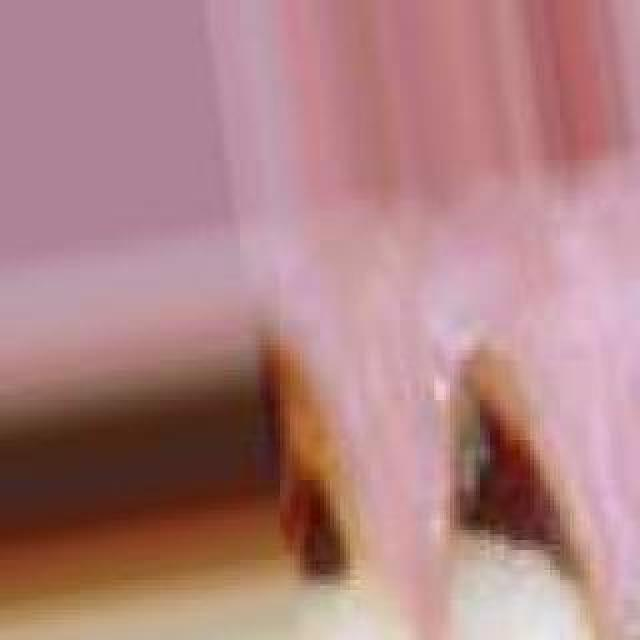cavities: (260, 390, 356, 580), (444, 414, 560, 550), (634, 294, 640, 440)
